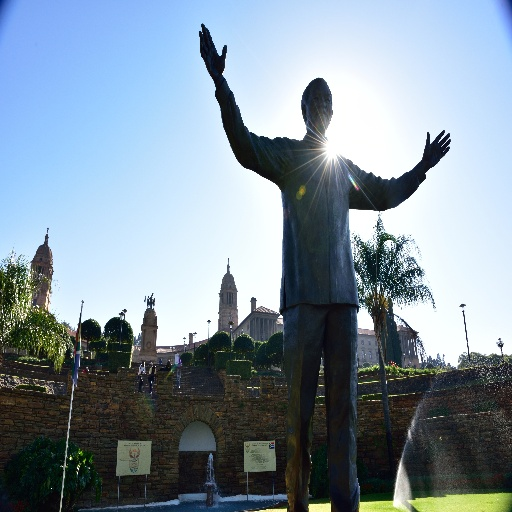hand: (198, 18, 229, 80), (422, 127, 450, 168), (176, 369, 180, 374), (140, 369, 142, 374)
